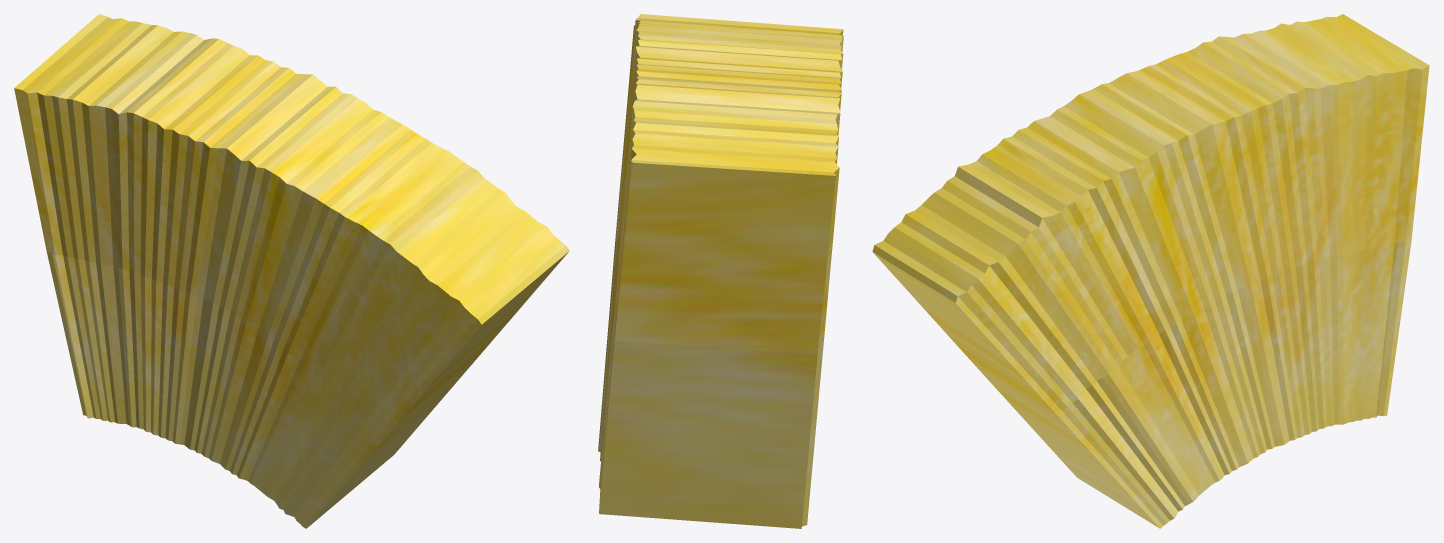
File: pine.glb
3 views of the same model, side by side, from view 1: azimuth 30°, elevation 25°; view 2: azimuth 150°, elevation 25°; view 3: azimuth 270°, elevation 25° (orthographic). The views are drawn at different scales.
Parts seen in each view (by area): view 1: pine.001; view 2: pine.001; view 3: pine.001.
Part boxes in pixels (x1,y1,x2,y2): pine.001: [14, 14, 569, 528]; pine.001: [598, 14, 843, 528]; pine.001: [872, 14, 1429, 528].
Size of the model in its own units: 0.7886 by 0.831 by 1.04.
1 material, 1 textured.
